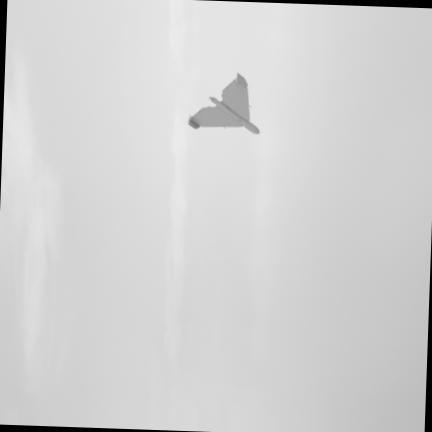Shahed: (188, 72, 259, 132)
